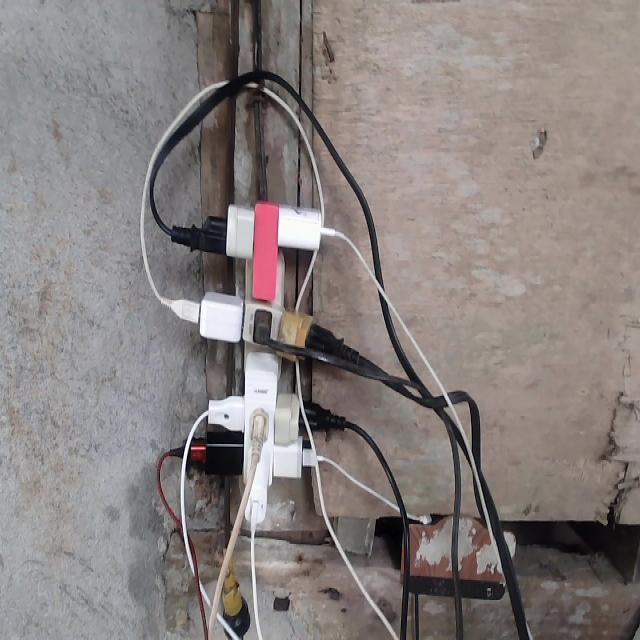-: (176, 196, 342, 525)
